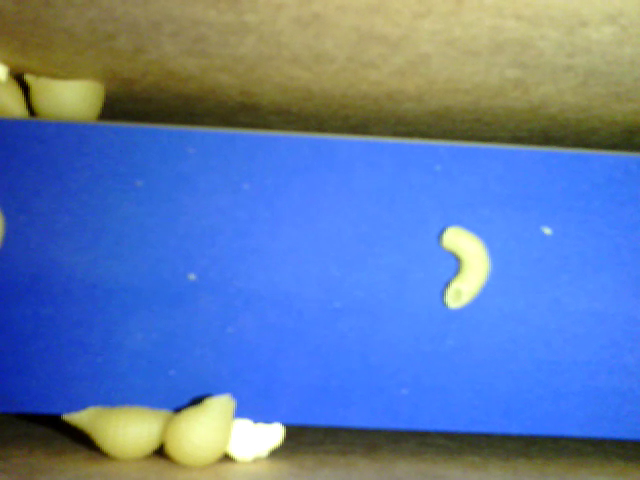elbow: (439, 223, 492, 310)
shell: (59, 406, 177, 466), (163, 392, 239, 469), (25, 73, 112, 121)
